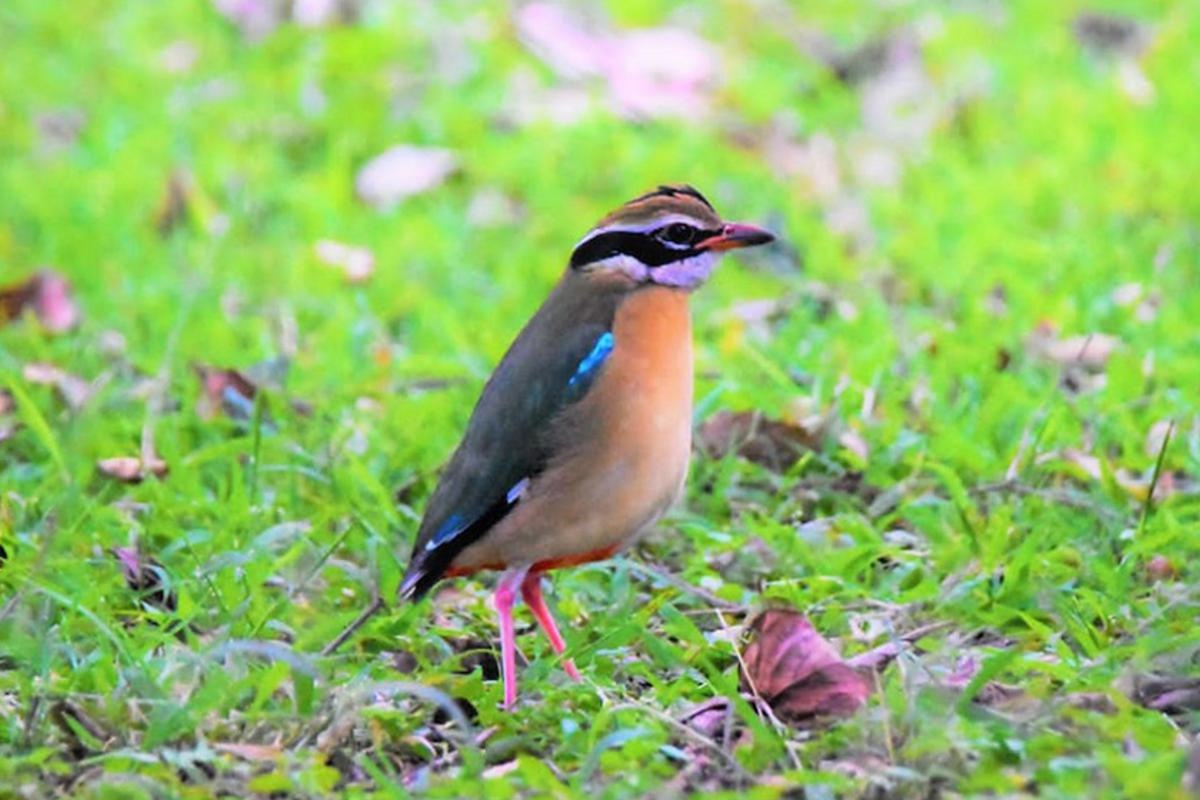pitta: (370, 182, 784, 694)
